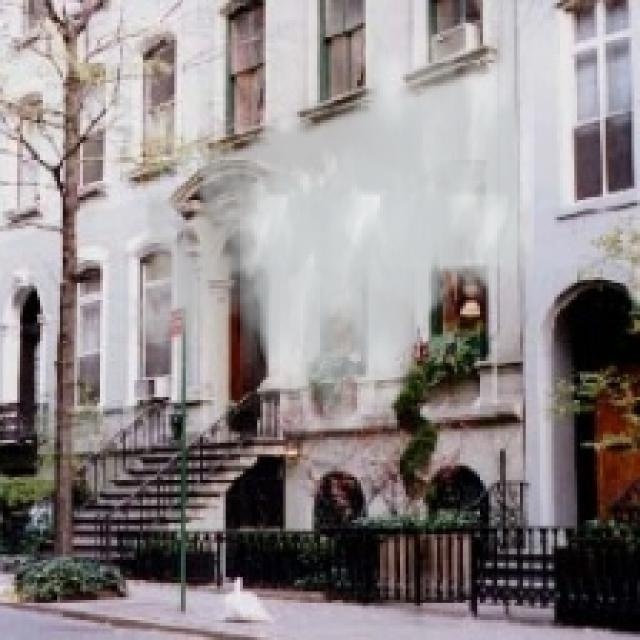smoke: (117, 17, 534, 443)
